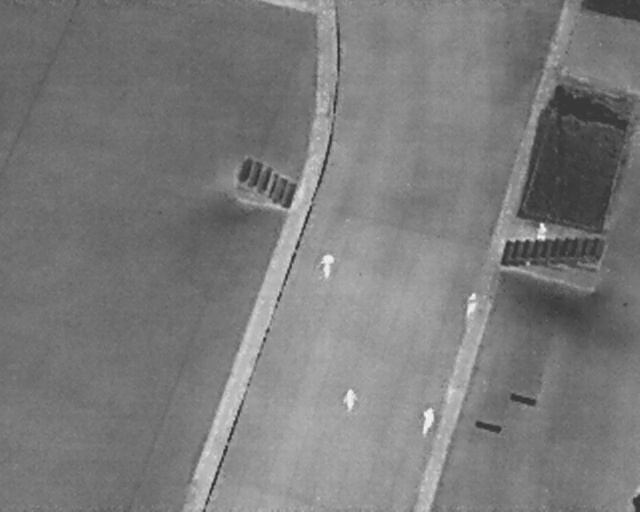Person: (420, 405, 436, 438), (319, 251, 335, 280), (343, 385, 358, 413), (464, 290, 478, 318), (536, 220, 548, 242)
